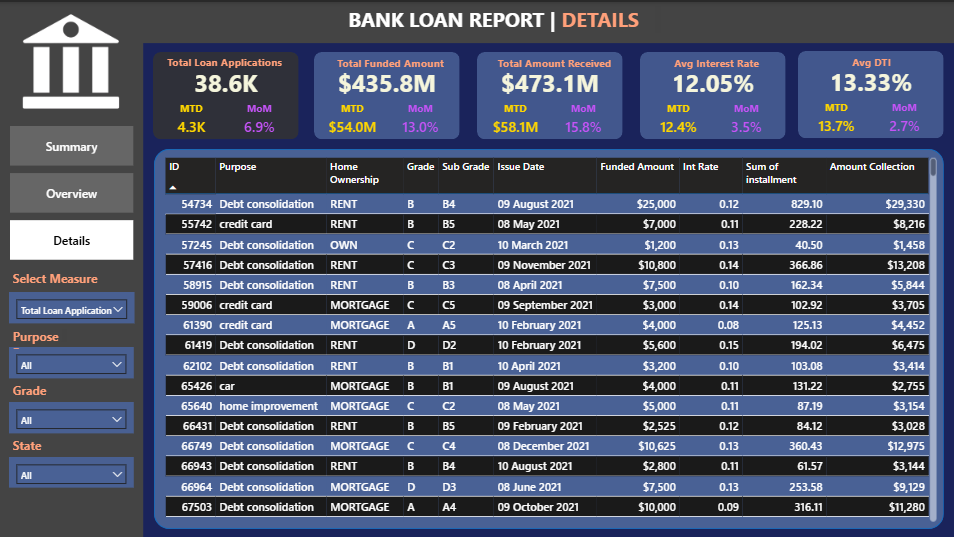

This screenshot's page, from the dashboard's own definition file:
{"tool":"powerbi","page":{"name":"Details","canvas":[1280,720],"ordinal":2},"visuals":[{"type":"shape","box":[0,0,1280,55],"z":0},{"type":"shape","box":[1067.7,65.7,195.4,117],"z":0,"group":"g5"},{"type":"shape","box":[420,66.4,195.4,117],"z":0,"group":"g2"},{"type":"shape","box":[638.8,66.4,195.4,117],"z":0,"group":"g3"},{"type":"shape","box":[857.1,66.4,195.4,117],"z":0,"group":"g4"},{"type":"shape","box":[205.3,66.5,195.4,117],"z":0,"group":"g1"},{"type":"shape","box":[0,53.3,191.7,665],"z":1000},{"type":"card","fields":{"Values":["bank_loan.Avg DTI"]},"box":[1067.7,83.6,195.4,49.5],"z":1000,"group":"g5"},{"type":"card","fields":{"Values":["bank_loan.Total Funded Amount"]},"box":[420,84.3,195.4,49.5],"z":1000,"group":"g2"},{"type":"card","fields":{"Values":["bank_loan.Total Amount Received"]},"box":[638.8,84.3,195.4,49.5],"z":1000,"group":"g3"},{"type":"card","fields":{"Values":["bank_loan.Avg Interest Rate"]},"box":[857.1,84.3,195.4,49.5],"z":1000,"group":"g4"},{"type":"card","fields":{"Values":["bank_loan.Total Loan Application"]},"box":[205.3,84.4,195.4,49.5],"z":1000,"group":"g1"},{"type":"textbox","box":[439.8,0,448.5,53.9],"z":2000},{"type":"textbox","box":[207.7,65.5,186.4,37.9],"z":2000,"group":"g1"},{"type":"textbox","box":[1072.7,65.8,186.4,37.9],"z":2000,"group":"g5"},{"type":"textbox","box":[428.5,66.5,186.4,37.9],"z":2000,"group":"g2"},{"type":"textbox","box":[649.1,66.5,186.4,37.9],"z":2000,"group":"g3"},{"type":"textbox","box":[865.5,66.5,186.4,37.9],"z":2000,"group":"g4"},{"type":"group","id":"g1","title":"Group 1","box":[192.9,65.5,218.6,121.4],"z":3000},{"type":"card","title":"MTD","fields":{"Values":["bank_loan.MTD Avg DTI"]},"box":[1055.3,133.1,126.6,52.3],"z":3000,"group":"g5"},{"type":"card","title":"MTD","fields":{"Values":["bank_loan.MTD Funded Amount"]},"box":[407.6,133.8,126.6,52.3],"z":3000,"group":"g2"},{"type":"card","title":"MTD","fields":{"Values":["bank_loan.MTD Amount Received"]},"box":[626.4,133.8,126.6,52.3],"z":3000,"group":"g3"},{"type":"card","title":"MTD","fields":{"Values":["bank_loan.MTD Avg Int Rate"]},"box":[844.7,133.8,126.6,52.3],"z":3000,"group":"g4"},{"type":"card","title":"MTD","fields":{"Values":["bank_loan.MTD Loan Applications"]},"box":[192.9,133.9,126.6,52.3],"z":3000,"group":"g1"},{"type":"group","id":"g2","title":"Group 1","box":[407.6,66.4,217.5,119.7],"z":4000},{"type":"card","title":"MoM","fields":{"Values":["bank_loan.MoM Avg DTI"]},"box":[1146.1,133.1,126.6,52.3],"z":4000,"group":"g5"},{"type":"card","title":"MoM","fields":{"Values":["bank_loan.MoM Funded Amount"]},"box":[498.4,133.8,126.6,52.3],"z":4000,"group":"g2"},{"type":"card","title":"MoM","fields":{"Values":["bank_loan.MoM Amount Received"]},"box":[717.2,133.8,126.6,52.3],"z":4000,"group":"g3"},{"type":"card","title":"MoM","fields":{"Values":["bank_loan.MoM Avg Interest Rate"]},"box":[935.5,133.8,126.6,52.3],"z":4000,"group":"g4"},{"type":"card","title":"MoM","fields":{"Values":["bank_loan.MoM Loan Applications"]},"box":[283.7,133.9,126.6,52.3],"z":4000,"group":"g1"},{"type":"group","id":"g3","title":"Group 1","box":[626.4,66.4,217.5,119.7],"z":5000},{"type":"group","id":"g4","title":"Group 1","box":[844.7,66.4,217.5,119.7],"z":6000},{"type":"group","id":"g5","title":"Group 1","box":[1055.3,65.7,217.5,119.7],"z":7000},{"type":"slicer","fields":{"Values":["bank_loan.State Name"]},"box":[12.1,608.6,167.1,41.4],"z":8000},{"type":"textbox","box":[11.7,578.3,83.3,36.7],"z":9000},{"type":"slicer","fields":{"Values":["bank_loan.grade"]},"box":[12.7,535,166.7,41.7],"z":10000},{"type":"textbox","box":[12,505,83.3,36.7],"z":11000},{"type":"slicer","fields":{"Values":["bank_loan.purpose"]},"box":[12.7,462,166.7,41.7],"z":12000},{"type":"textbox","box":[12,432,83.3,36.7],"z":13000},{"type":"image","box":[21.7,0,146.7,155],"z":14000},{"type":"slicer","fields":{"Values":["Select Measure.Select Measure"]},"box":[12,388,168,42],"z":15000},{"type":"textbox","box":[12,354,157,37],"z":16000},{"type":"shape","box":[205.7,197.1,1057.1,508.6],"z":17000},{"type":"tableEx","fields":{"Values":["bank_loan.id","bank_loan.purpose","bank_loan.home_ownership","bank_loan.grade","bank_loan.sub_grade","bank_loan.issue_date","bank_loan.Total Funded Amount","Sum(bank_loan.int_rate)","Sum(bank_loan.installment)","bank_loan.Total Amount Received"]},"box":[215.7,202.9,1042.9,497.1],"z":18000},{"type":"pageNavigator","box":[12.9,165.7,165.7,180],"z":18001}]}

Visuals, with their boxes in screenshot pixels (x1, y1, x2, y2), scaled from the page's 1280x720 canvas onto the 954x537 screenshot:
shape: 0/0/953/41
shape: 796/49/941/136
shape: 313/50/459/137
shape: 476/50/622/137
shape: 639/50/784/137
shape: 153/50/299/137
shape: 0/40/143/536
card - bank_loan.Avg DTI: 796/62/941/99
card - bank_loan.Total Funded Amount: 313/63/459/100
card - bank_loan.Total Amount Received: 476/63/622/100
card - bank_loan.Avg Interest Rate: 639/63/784/100
card - bank_loan.Total Loan Application: 153/63/299/100
textbox: 328/0/662/40
textbox: 155/49/294/77
textbox: 799/49/938/77
textbox: 319/50/458/78
textbox: 484/50/623/78
textbox: 645/50/784/78
"Group 1" group: 144/49/307/139
"MTD" card: 787/99/881/138
"MTD" card: 304/100/398/139
"MTD" card: 467/100/561/139
"MTD" card: 630/100/724/139
"MTD" card: 144/100/238/139
"Group 1" group: 304/50/466/139
"MoM" card: 854/99/949/138
"MoM" card: 371/100/466/139
"MoM" card: 535/100/629/139
"MoM" card: 697/100/792/139
"MoM" card: 211/100/306/139
"Group 1" group: 467/50/629/139
"Group 1" group: 630/50/792/139
"Group 1" group: 787/49/949/138
slicer - bank_loan.State Name: 9/454/134/485
textbox: 9/431/71/459
slicer - bank_loan.grade: 9/399/134/430
textbox: 9/377/71/404
slicer - bank_loan.purpose: 9/345/134/376
textbox: 9/322/71/350
image: 16/0/126/116
slicer - Select Measure.Select Measure: 9/289/134/321
textbox: 9/264/126/292
shape: 153/147/941/526
tableEx - bank_loan.id x bank_loan.purpose: 161/151/938/522
pageNavigator: 10/124/133/258
